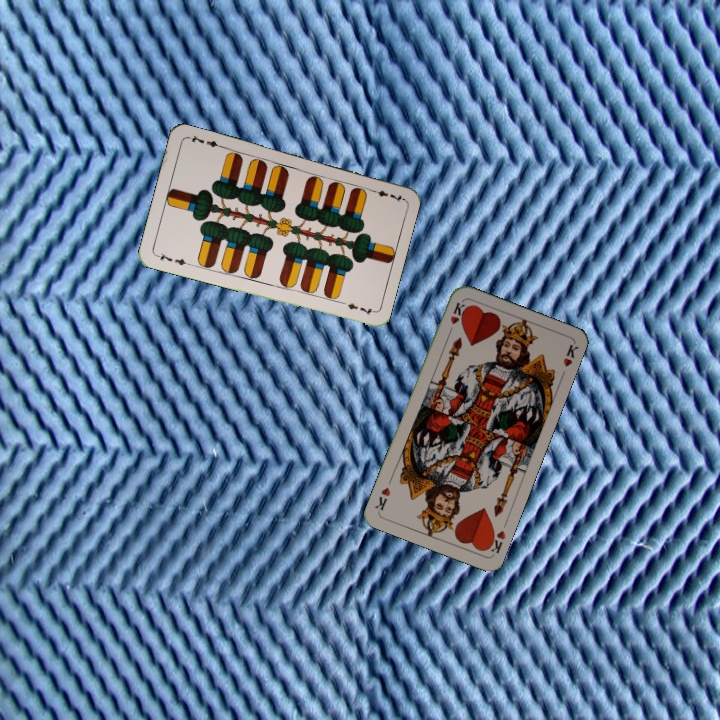E7: (365, 184, 405, 204), (152, 249, 192, 268)
HK: (444, 298, 467, 337), (482, 525, 508, 556)
